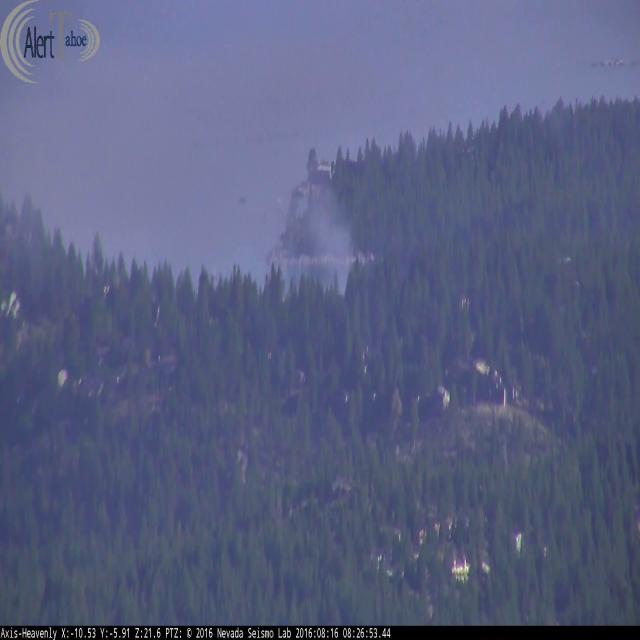smoke: (276, 182, 356, 300), (0, 178, 45, 264)
